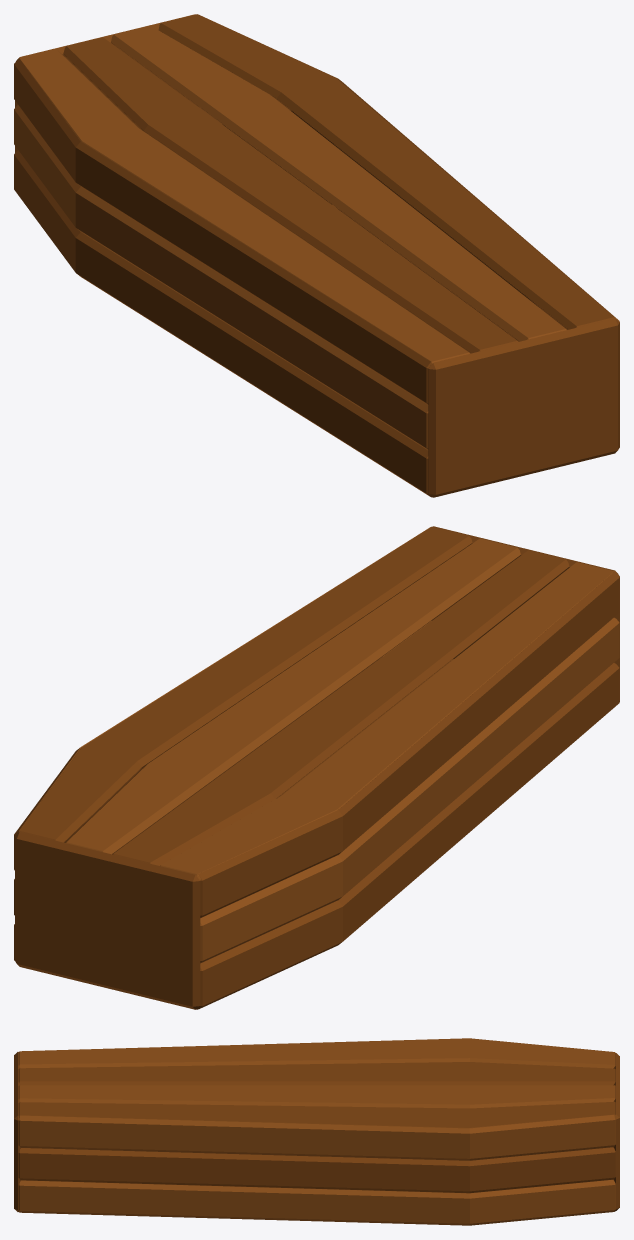
File: Coffin.fbx
3 renders of one model, top to bottom at view 1: azimuth 30°, elevation 25°; view 2: azimuth 150°, elevation 25°; view 3: azimuth 270°, elevation 25°, orthographic. The views are drawn at different scales.
Parts seen in each view (by area): view 1: Coffin_p2, Coffin_p1; view 2: Coffin_p2, Coffin_p1; view 3: Coffin_p1, Coffin_p2.
Boxes of the visible parts, x1=… form: Coffin_p2: x1=18, y1=14, x2=614, y2=363; Coffin_p1: x1=14, y1=14, x2=619, y2=497; Coffin_p2: x1=15, y1=526, x2=614, y2=880; Coffin_p1: x1=14, y1=526, x2=619, y2=1009; Coffin_p1: x1=14, y1=1038, x2=619, y2=1225; Coffin_p2: x1=18, y1=1038, x2=615, y2=1128.
Bounding box in the file's own units: 99.76 × 48.41 × 273.
